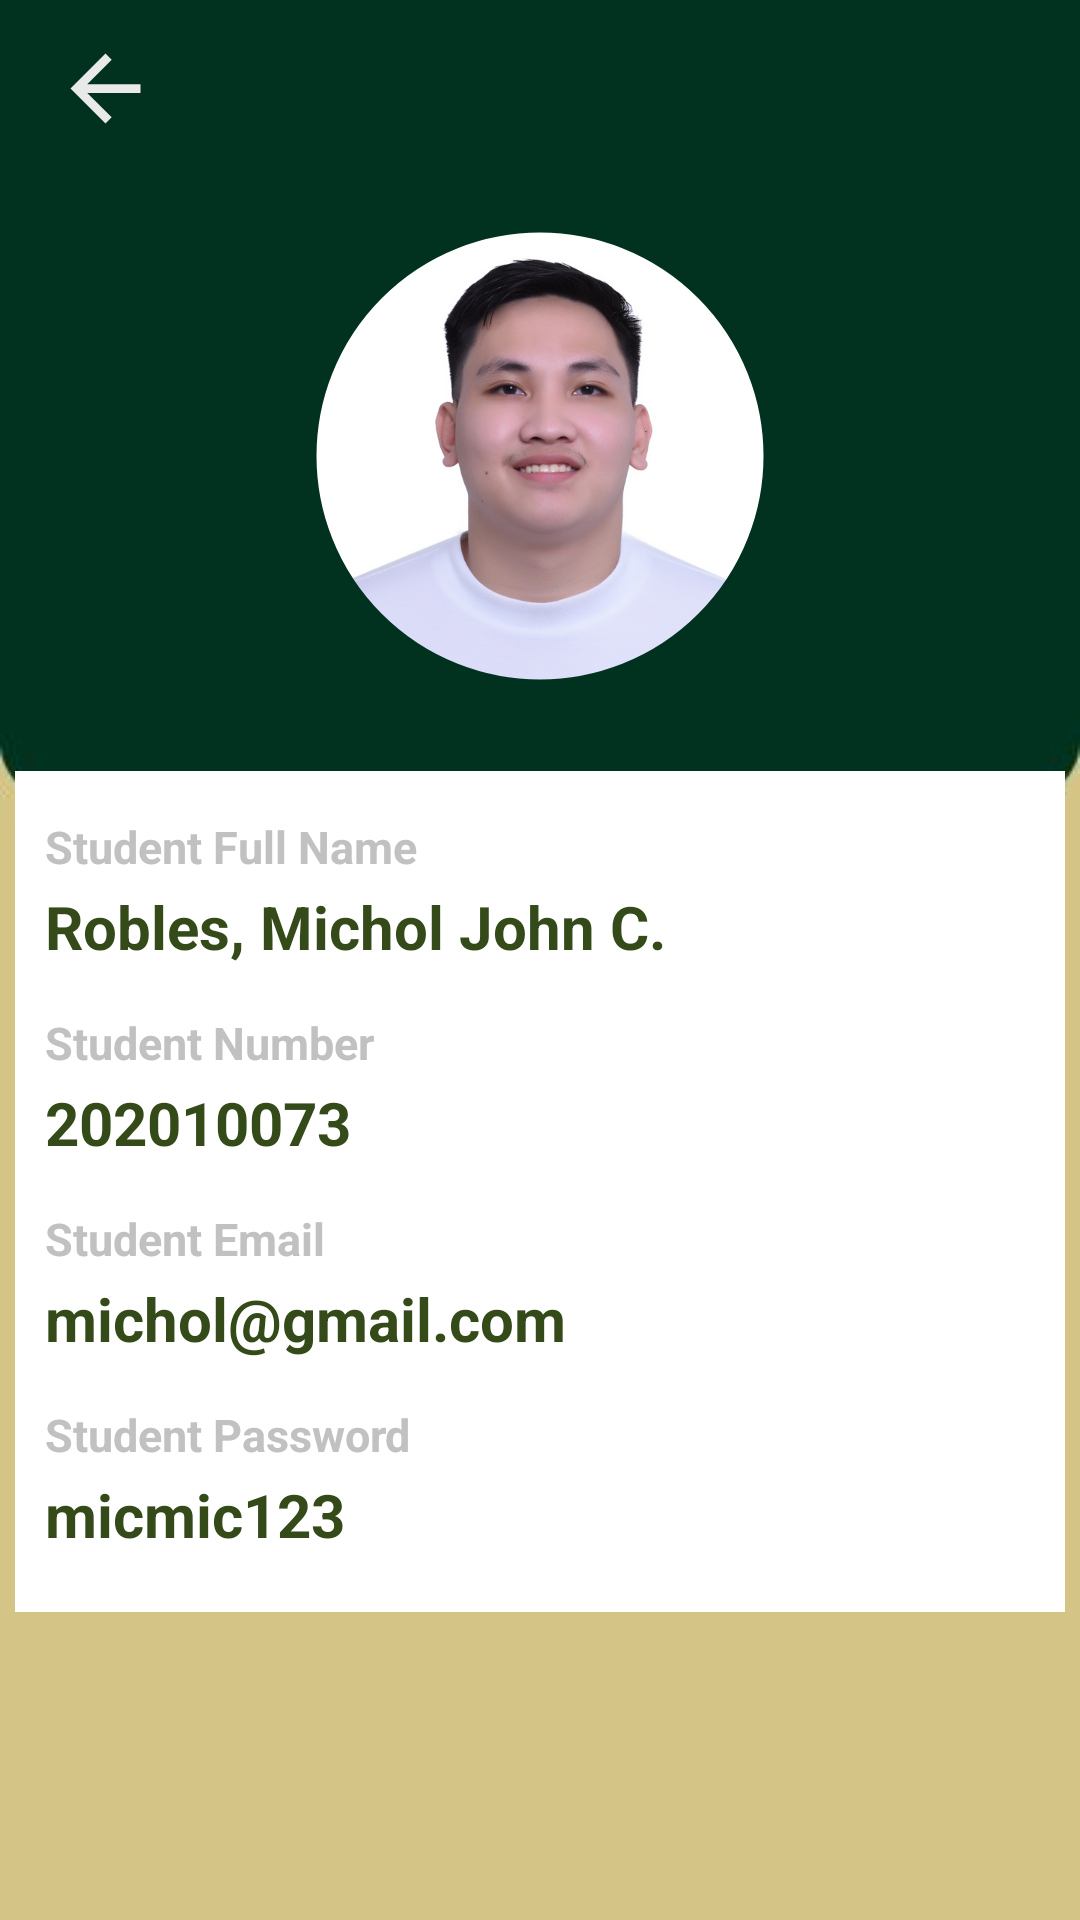

Where icons sit on this 1080px x 1920px app screen, as rect(x1, y1, x2, y2):
arrow back: rect(70, 53, 141, 124)
